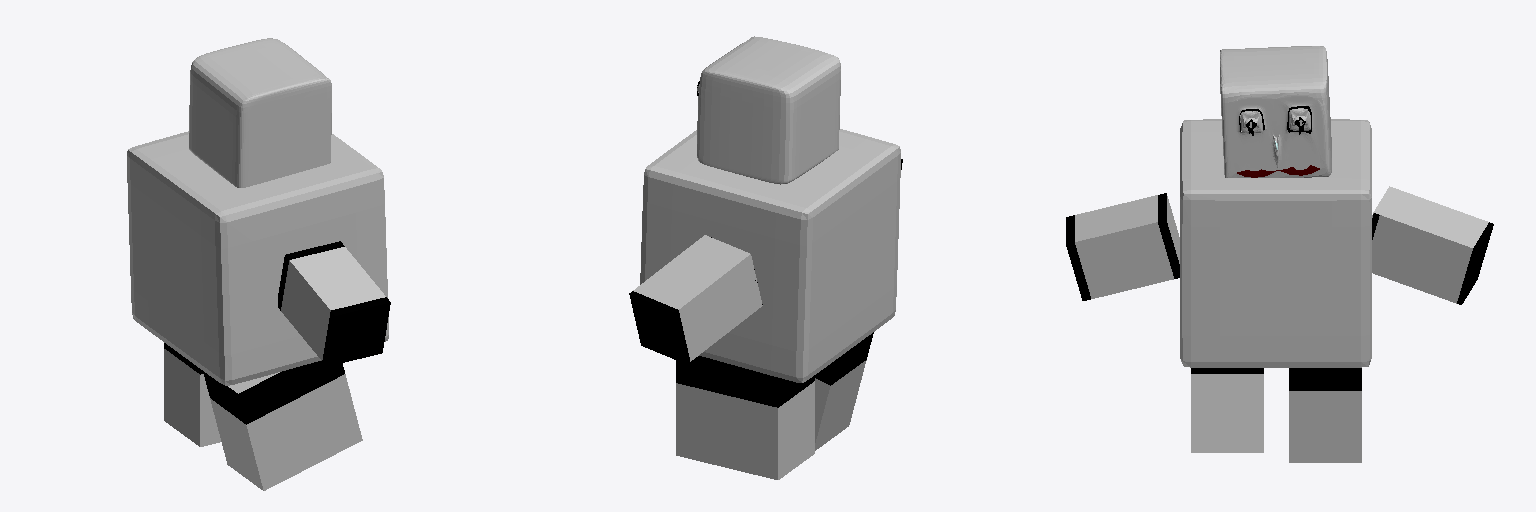
3 views of the same model, side by side, from view 1: azimuth 30°, elevation 25°; view 2: azimuth 150°, elevation 25°; view 3: azimuth 270°, elevation 25° (orthographic).
Visible parts, largest first — view 1: Cube_Cube.001, Cube.001_Cube.002, Cube.002_Cube.003, Cube.005_Cube.007, Cube.003_Cube.004; view 2: Cube_Cube.001, Cube.001_Cube.002, Cube.003_Cube.004, Cube.004_Cube.005, Cube.002_Cube.003; view 3: Cube_Cube.001, Cube.001_Cube.002, Cube.004_Cube.005, Cube.005_Cube.007, Cube.003_Cube.004, Cube.002_Cube.003.
Boxes of the visible parts, x1,y1,x2,y2 form: Cube_Cube.001: [127, 131, 388, 385]; Cube.001_Cube.002: [189, 38, 331, 187]; Cube.002_Cube.003: [203, 361, 362, 490]; Cube.005_Cube.007: [278, 241, 390, 366]; Cube.003_Cube.004: [164, 343, 220, 446]; Cube_Cube.001: [640, 129, 900, 382]; Cube.001_Cube.002: [697, 36, 840, 184]; Cube.003_Cube.004: [676, 356, 814, 479]; Cube.004_Cube.005: [629, 235, 762, 364]; Cube.002_Cube.003: [815, 332, 873, 450]; Cube_Cube.001: [1180, 119, 1371, 367]; Cube.001_Cube.002: [1220, 46, 1331, 177]; Cube.004_Cube.005: [1372, 186, 1493, 304]; Cube.005_Cube.007: [1066, 193, 1179, 300]; Cube.003_Cube.004: [1289, 368, 1361, 462]; Cube.002_Cube.003: [1191, 368, 1263, 452].
Size of the model in its own units: 1.5 by 3.23 by 3.24.